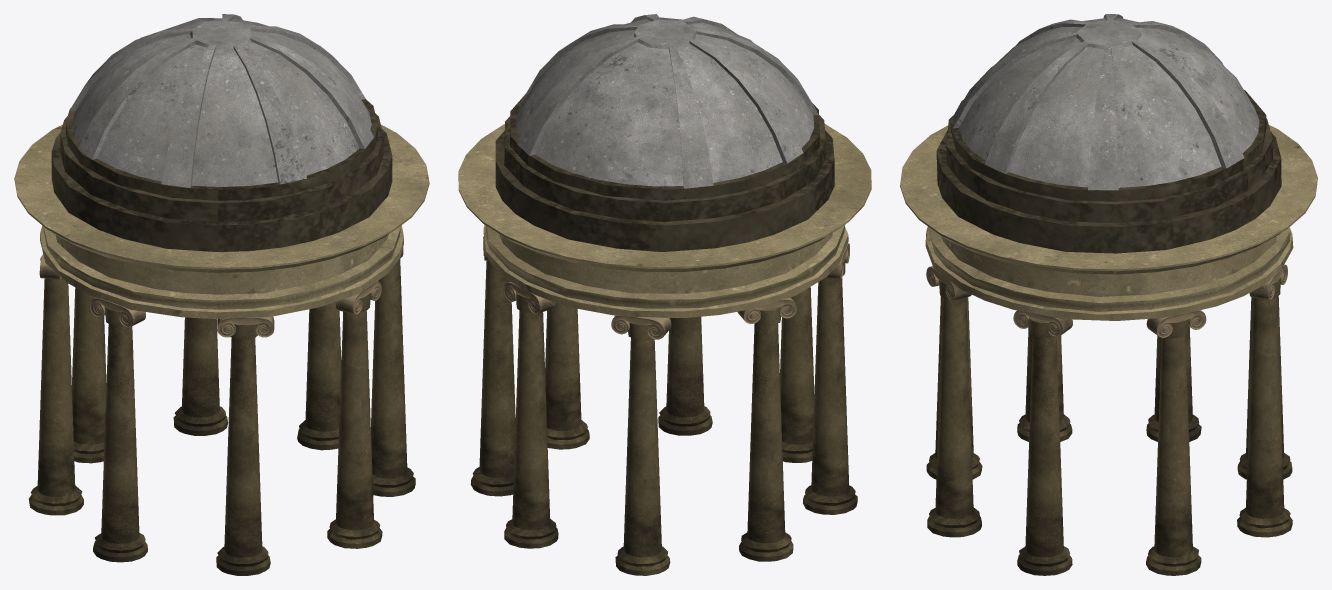
Rendered from kapolna.glb.
3 views of the same model, side by side, from view 1: azimuth 30°, elevation 25°; view 2: azimuth 150°, elevation 25°; view 3: azimuth 270°, elevation 25° (orthographic).
Parts seen in each view (by area): view 1: teto, bura, oszlop_test3, oszlop_test5, oszlop_test4, oszlop_test6, oszlop_test7, oszlop_test, oszlop_test8, oszlop_test2, cifra3, cifra5 (+1 smaller); view 2: teto, bura, oszlop_test6, oszlop_test, oszlop_test2, oszlop_test5, oszlop_test8, oszlop_test3, oszlop_test7, oszlop_test4, cifra, cifra2 (+1 smaller); view 3: teto, bura, oszlop_test7, oszlop_test8, oszlop_test2, oszlop_test4, oszlop_test5, oszlop_test6, oszlop_test3, oszlop_test, cifra8, cifra7 (+2 smaller).
Part boxes in pixels (x1,y1,x2,y2): teto: (14, 99, 429, 319); bura: (70, 14, 373, 187); oszlop_test3: (216, 324, 270, 575); oszlop_test5: (93, 307, 147, 562); oszlop_test4: (327, 293, 382, 548); oszlop_test6: (28, 256, 83, 515); oszlop_test7: (371, 247, 415, 496); oszlop_test: (72, 287, 106, 463); oszlop_test8: (297, 301, 341, 450); oszlop_test2: (173, 317, 228, 435); cifra3: (217, 316, 274, 337); cifra5: (89, 297, 145, 327); teto: (458, 94, 871, 317); bura: (515, 14, 818, 188); oszlop_test6: (739, 306, 793, 561); oszlop_test: (615, 323, 670, 575); oszlop_test2: (504, 292, 558, 548); oszlop_test5: (803, 258, 857, 514); oszlop_test8: (470, 237, 515, 496); oszlop_test3: (780, 287, 814, 462); oszlop_test7: (545, 303, 589, 449); oszlop_test4: (658, 316, 712, 435); cifra: (611, 315, 671, 339); cifra2: (503, 281, 555, 313); teto: (900, 90, 1317, 320); bura: (953, 14, 1259, 190); oszlop_test7: (1017, 317, 1072, 575); oszlop_test8: (1146, 319, 1201, 575); oszlop_test2: (1237, 277, 1292, 537); oszlop_test4: (927, 280, 981, 537); oszlop_test5: (1017, 326, 1072, 441); oszlop_test6: (1146, 326, 1201, 441); oszlop_test3: (926, 296, 982, 479); oszlop_test: (1237, 296, 1292, 479); cifra8: (1146, 310, 1206, 337); cifra7: (1013, 310, 1072, 336).
Bounding box in the file's own units: 10.33 × 12.7 × 10.33.
Materials: 5 (5 with a texture image).
